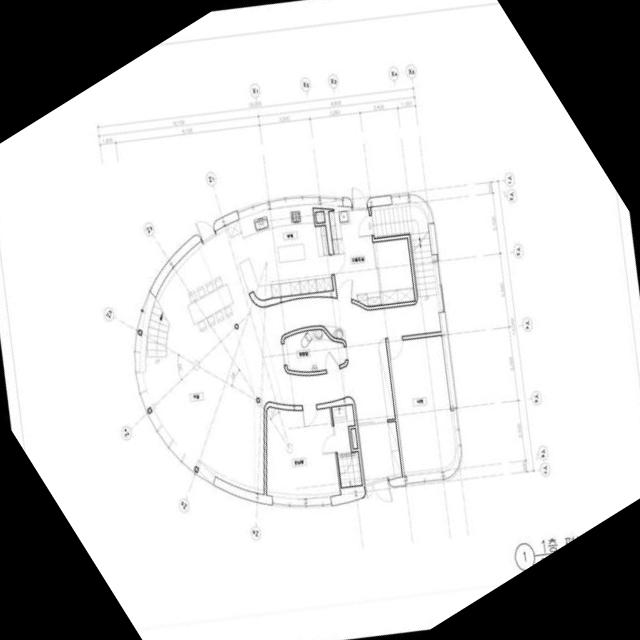background: (0, 0, 640, 640)
space_kitchen: (226, 204, 334, 300)
space_living_room: (143, 225, 441, 494)
space_multipurpose_space: (328, 206, 414, 306)
space_other: (388, 335, 456, 476), (267, 407, 340, 498), (357, 421, 401, 484), (351, 428, 357, 448), (315, 211, 324, 222)
space_staircase: (370, 202, 436, 296), (147, 298, 169, 356)
space_toilet: (284, 329, 345, 371), (332, 404, 362, 487)
